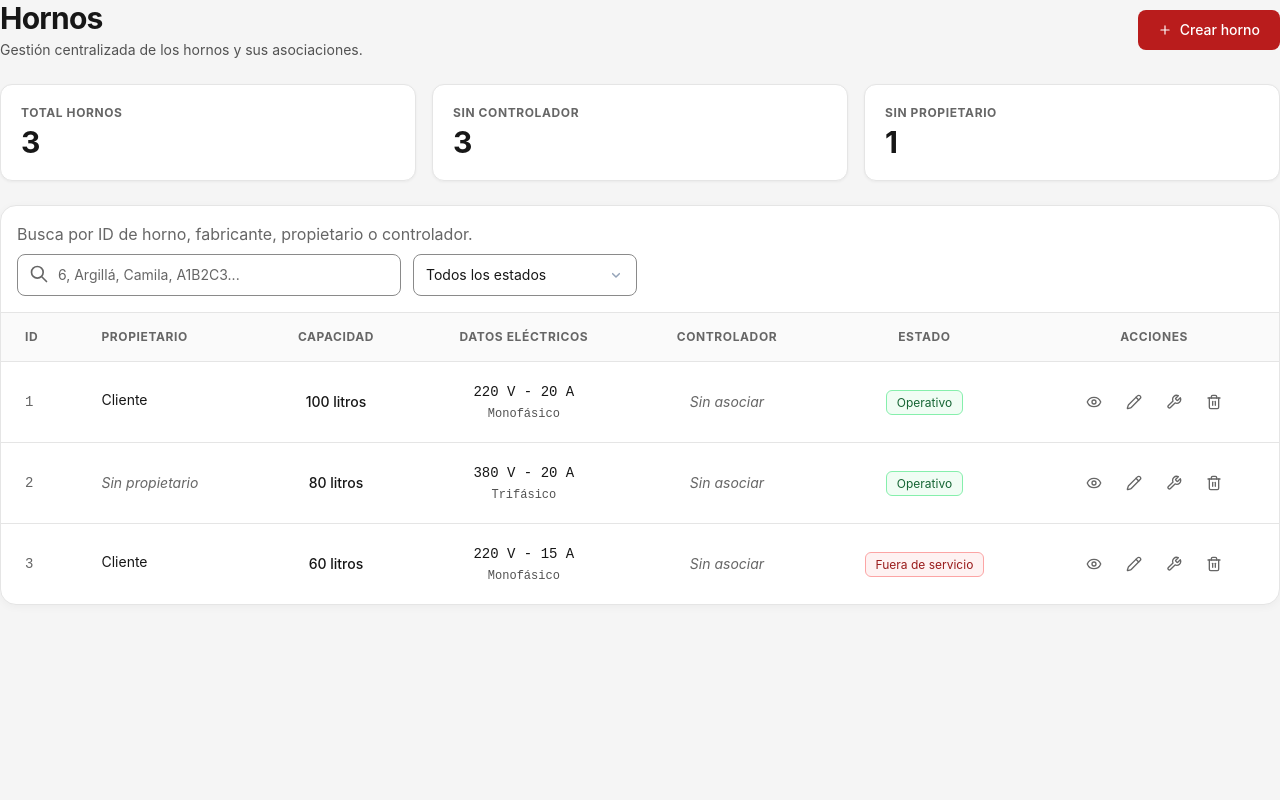
Scenario: technician equipment management › lets administrators change a kiln status from the dedicated dialog
Click the button titled "Cambiar estado del horno" in the row of "100" at (1174, 402), box x1=1158 y1=386 x2=1190 y2=418
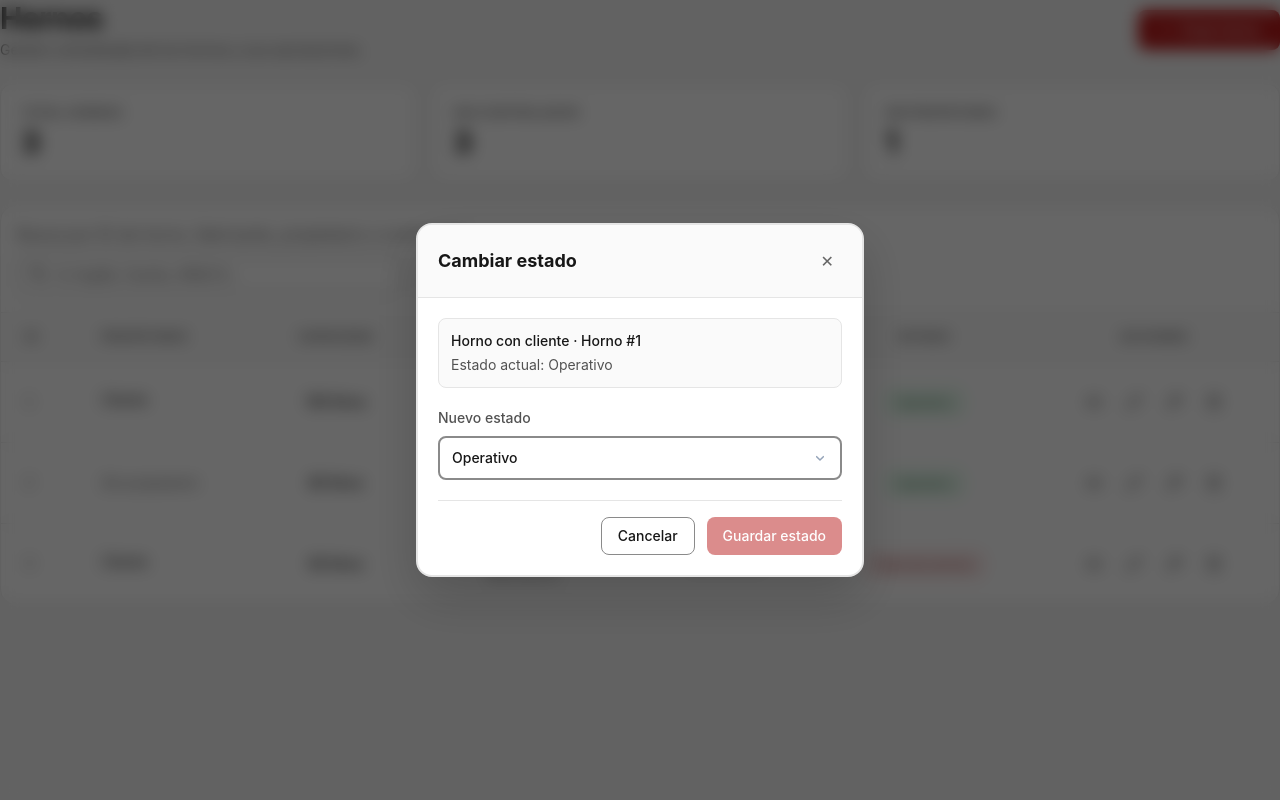
Now the button "Guardar estado" is disabled, box x1=707 y1=517 x2=842 y2=555
Select "En mantención" in the dropdown labelled "Nuevo estado" at (640, 458), box x1=438 y1=436 x2=842 y2=480
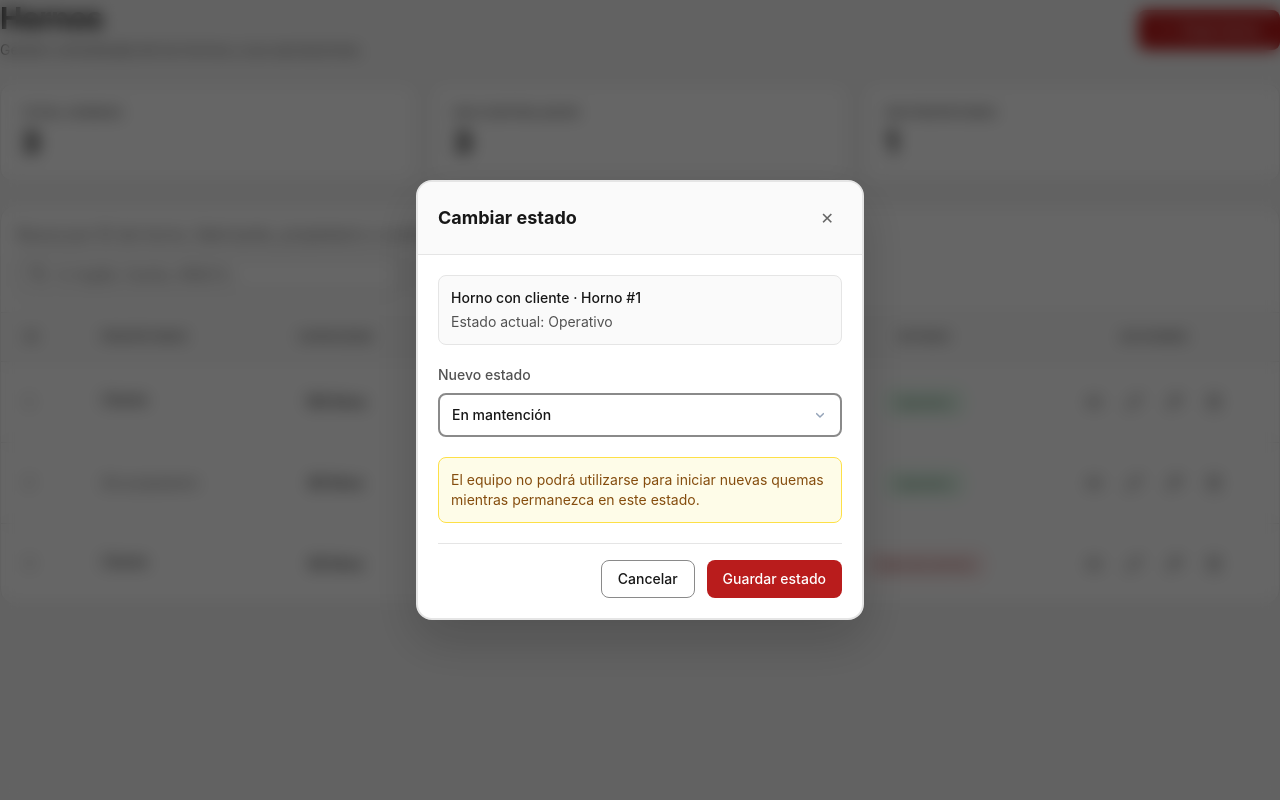
Now the text "no podrá utilizarse para iniciar nuevas quemas" is shown, box x1=451 y1=471 x2=824 y2=508
Click the button "Guardar estado" at (774, 579), box x1=707 y1=560 x2=842 y2=598
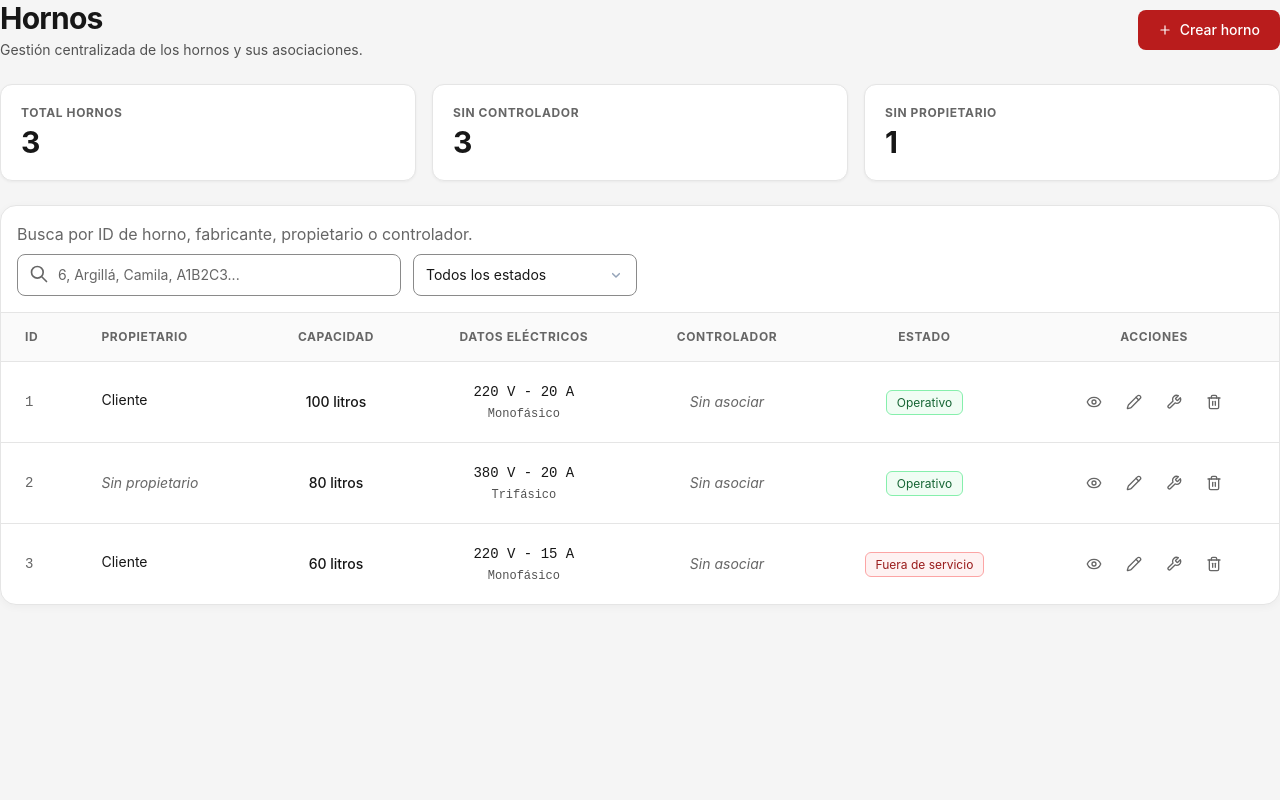
Now the heading "Cambiar estado" is gone
